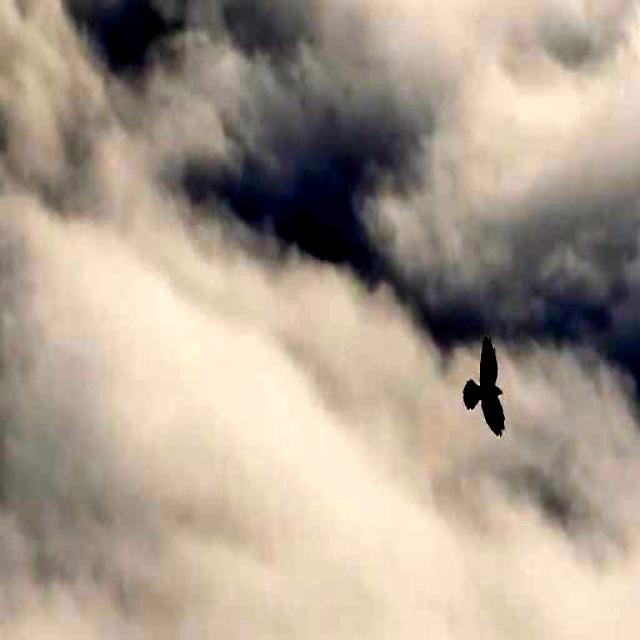airplane: (456, 332, 514, 454)
